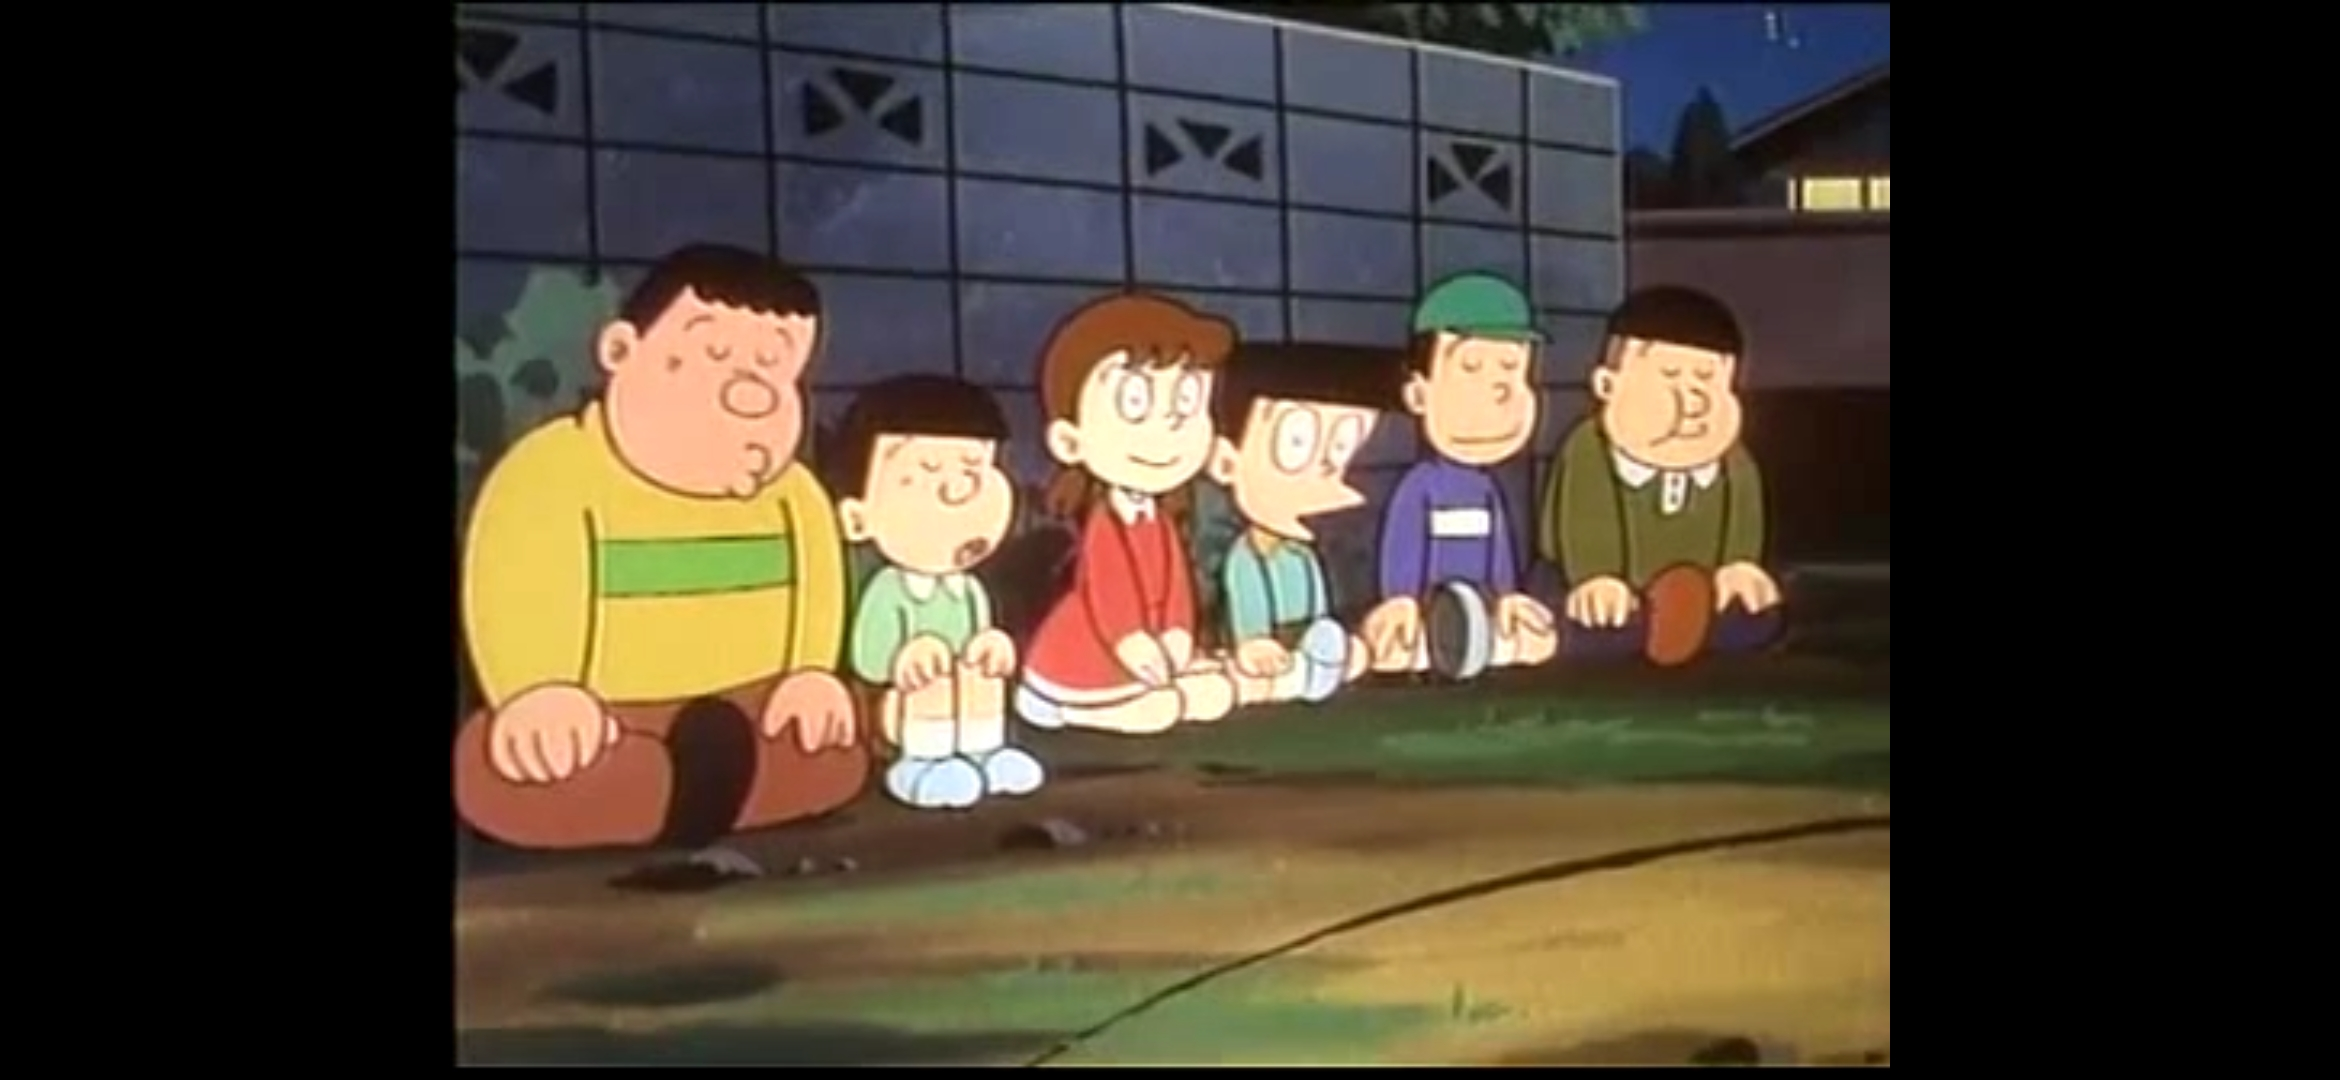Shizuka: (1040, 292, 1236, 491)
Suneo: (1203, 343, 1398, 539)
Takeshi: (594, 242, 816, 495)
